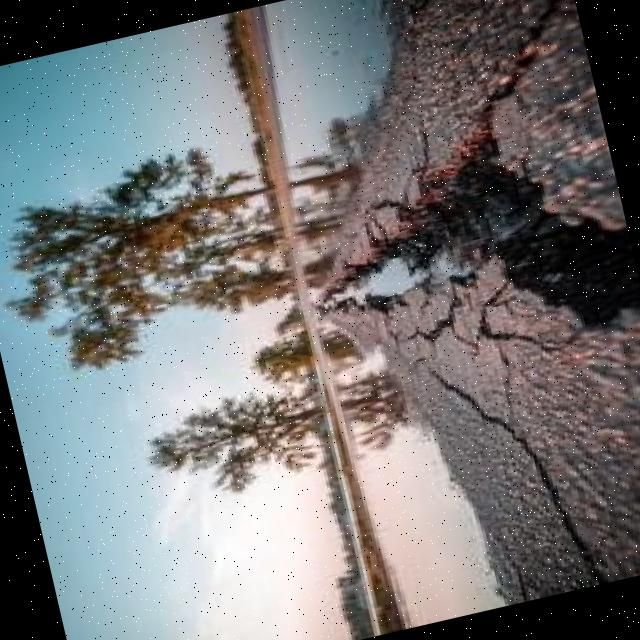road collapse: (237, 97, 640, 490)
